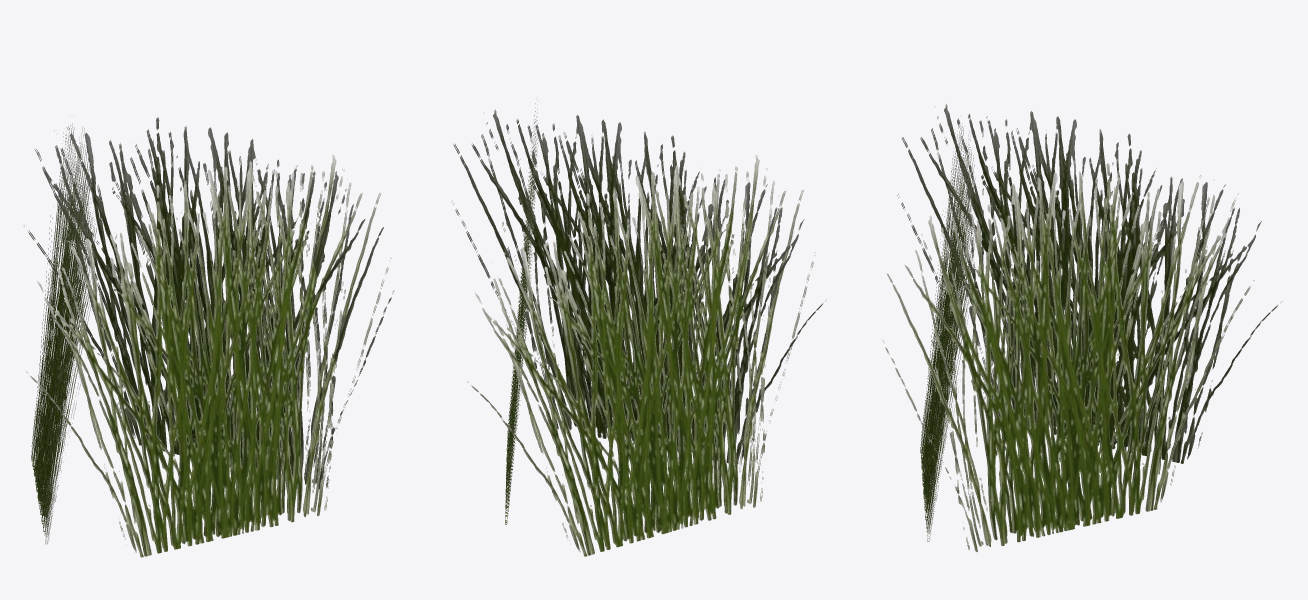
File: Rumput.fbx
The picture shows the model from 3 angles, left to right: view 1: azimuth 30°, elevation 25°; view 2: azimuth 150°, elevation 25°; view 3: azimuth 270°, elevation 25°; orthographic projection. The views are drawn at different scales.
Parts seen in each view (by area): view 1: Rumput; view 2: Rumput; view 3: Rumput.
Boxes of the visible parts, x1=… form: Rumput: x1=26, y1=115, x2=394, y2=557; Rumput: x1=451, y1=99, x2=826, y2=556; Rumput: x1=882, y1=104, x2=1282, y2=551.
Size of the model in its own units: 204 by 204 by 196.
1 material, 1 textured.
